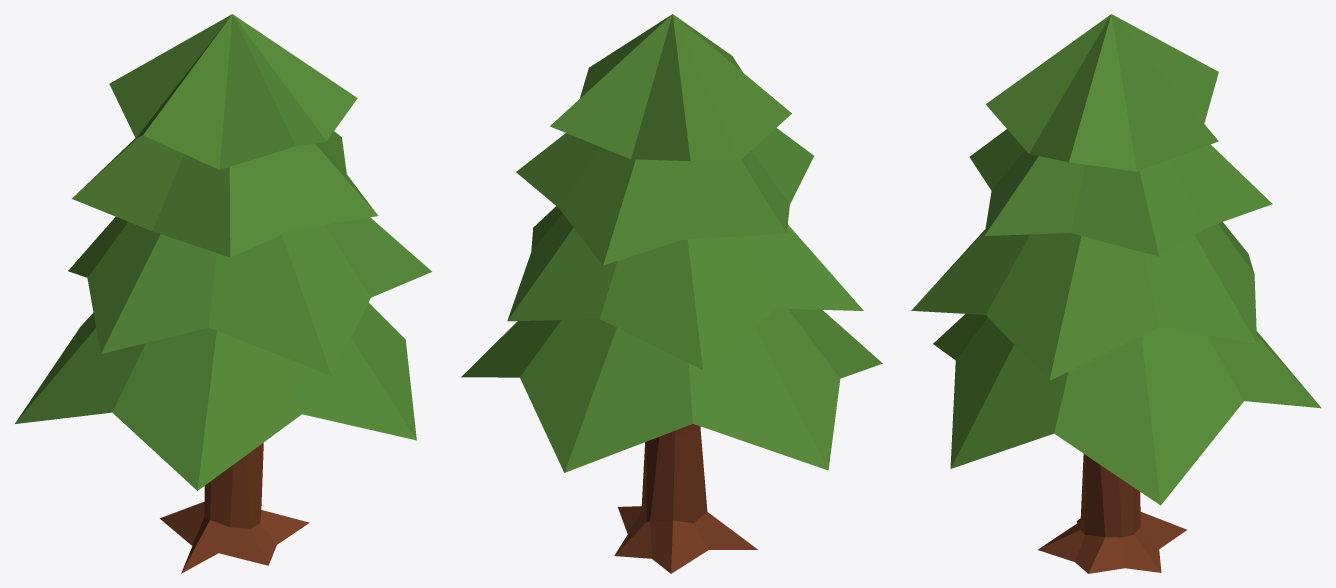
Rendered from tree3.fbx.
3 views of the same model, side by side, from view 1: azimuth 30°, elevation 25°; view 2: azimuth 150°, elevation 25°; view 3: azimuth 270°, elevation 25° (orthographic). The views are drawn at different scales.
Visible parts, largest first — view 1: Circle; view 2: Circle; view 3: Circle.
Boxes of the visible parts, x1,y1,x2,y2 form: Circle: (15,14,431,573); Circle: (461,14,882,573); Circle: (911,14,1321,573).
Bounding box in the file's own units: 119 × 162 × 111.
